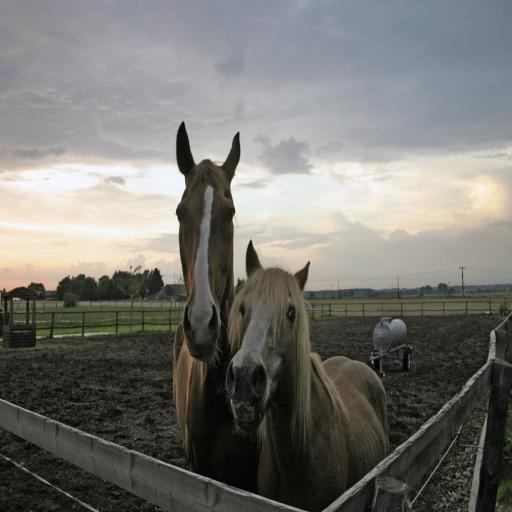horse: (216, 238, 392, 510), (170, 116, 262, 494)
